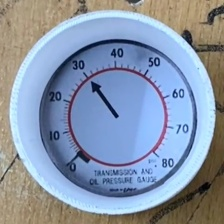gauge: (39, 40, 196, 196)
